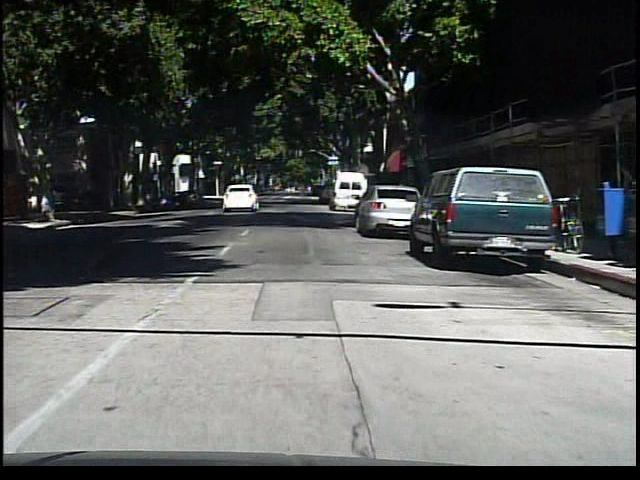person: (44, 179, 61, 222), (294, 177, 313, 206)
